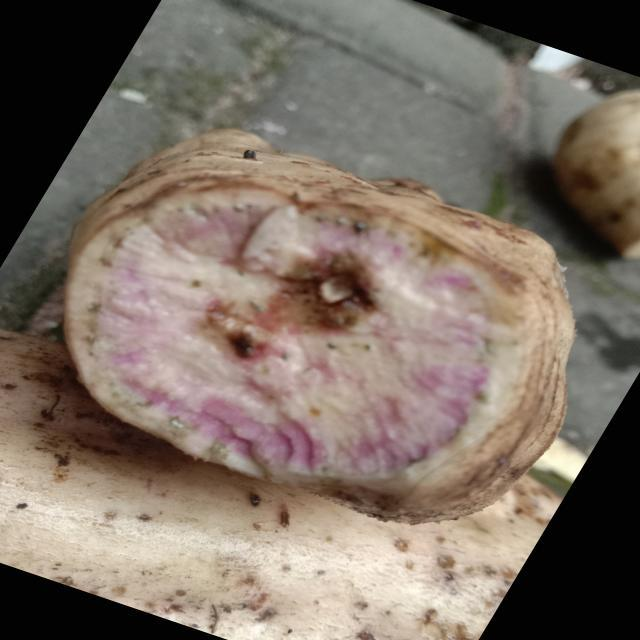Sick Sweet Potato_Tuber Rot: (67, 189, 517, 480)
